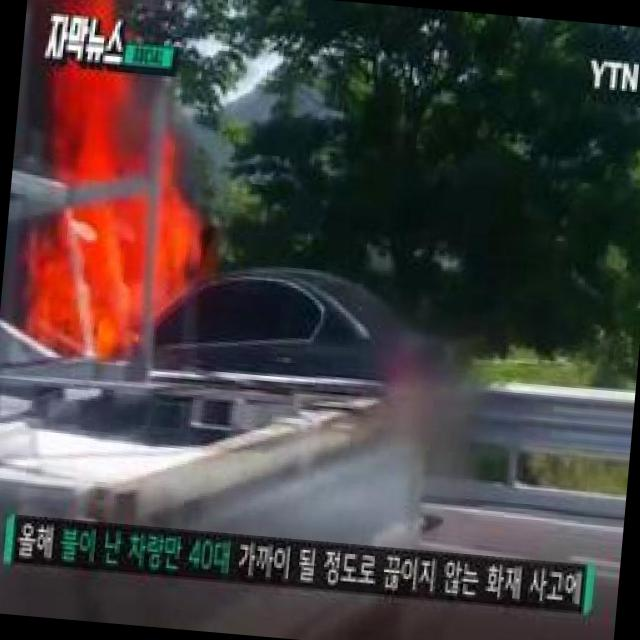Fire: (0, 0, 227, 364)
